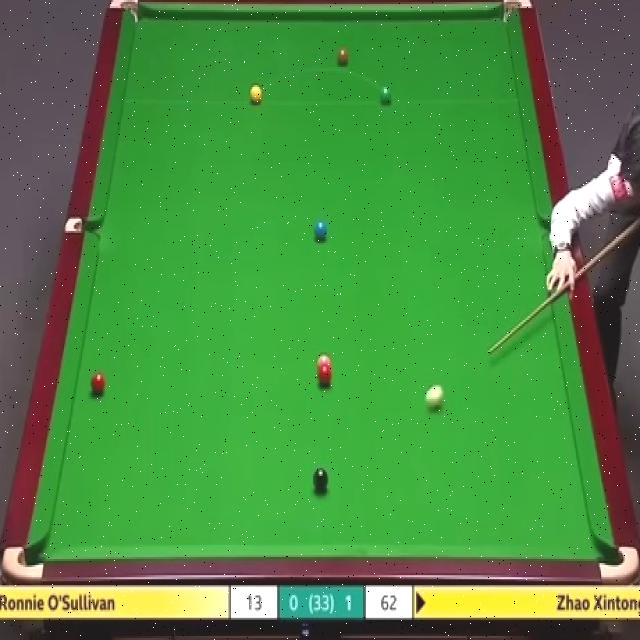black-ball: (312, 468, 328, 494)
blue-ball: (314, 219, 328, 240)
brown-ball: (336, 48, 349, 65)
green-ball: (378, 84, 392, 105)
pink-ball: (316, 353, 333, 371)
red-ball: (91, 372, 105, 394), (316, 368, 332, 386)
white-ball: (426, 386, 444, 412)
yellow-ball: (250, 86, 262, 106)
